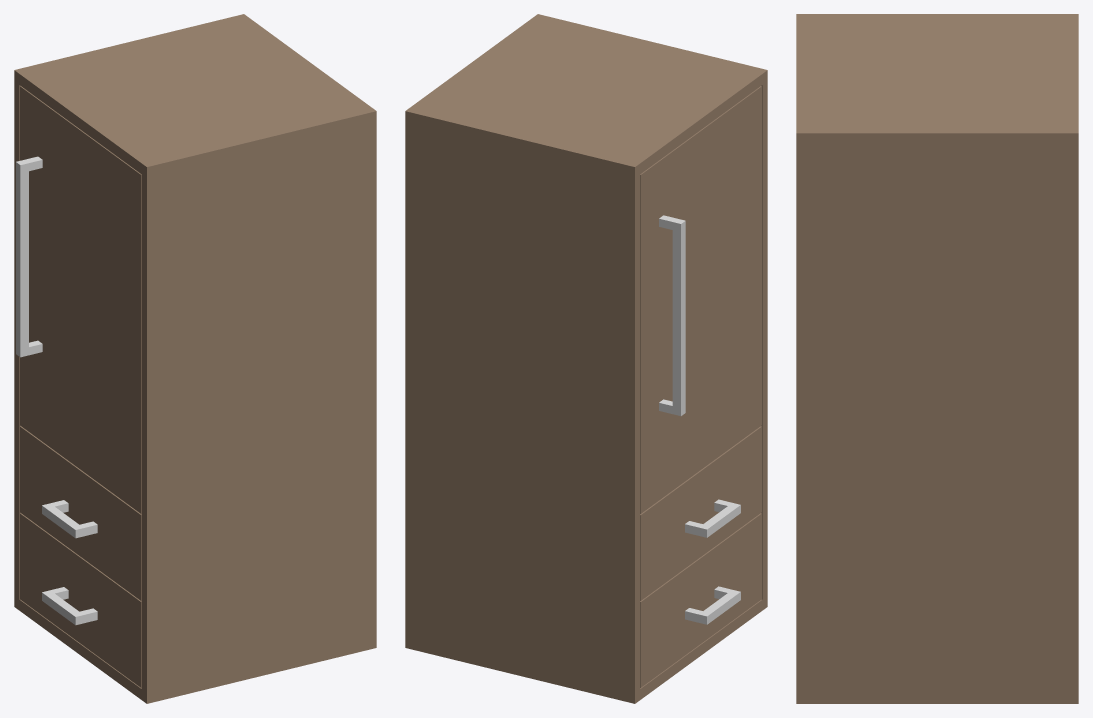
The model's file is Armoire.fbx.
The picture shows the model from 3 angles, left to right: view 1: azimuth 30°, elevation 25°; view 2: azimuth 150°, elevation 25°; view 3: azimuth 270°, elevation 25°; orthographic projection. The views are drawn at different scales.
Parts seen in each view (by area): view 1: armoire; view 2: armoire; view 3: armoire.
Part boxes in pixels (<box>): armoire: <box>14,14,376,703</box>; armoire: <box>405,14,767,703</box>; armoire: <box>796,14,1078,703</box>.
Bounding box in the file's own units: 1.1 × 2.23 × 1.
